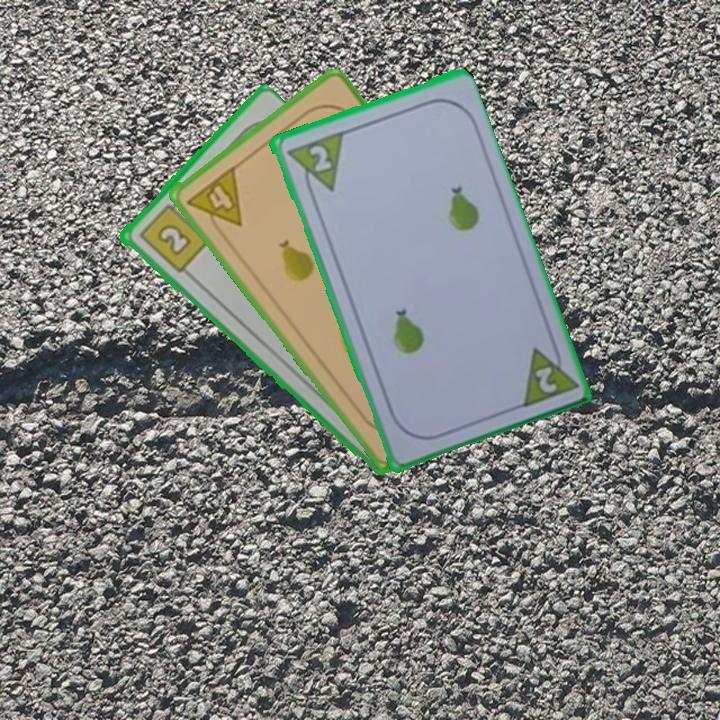2b: (135, 195, 211, 276)
2p: (515, 335, 579, 411), (305, 141, 334, 175)
4p: (183, 162, 245, 241)
